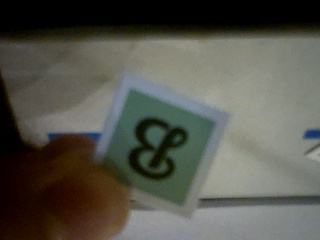B: (99, 89, 218, 208)
